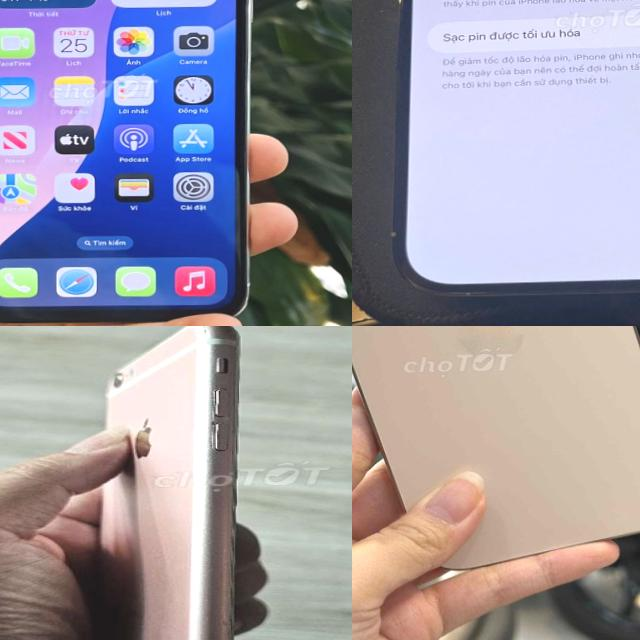gen_11: (0, 0, 270, 326)
gen_14: (368, 0, 640, 316)
gen_16: (352, 326, 640, 569)
gen_6: (93, 326, 238, 640)
scratch: (194, 378, 246, 456)
